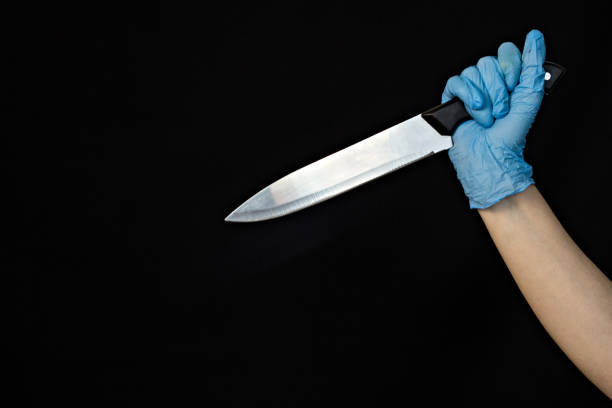knife: (222, 57, 571, 225)
